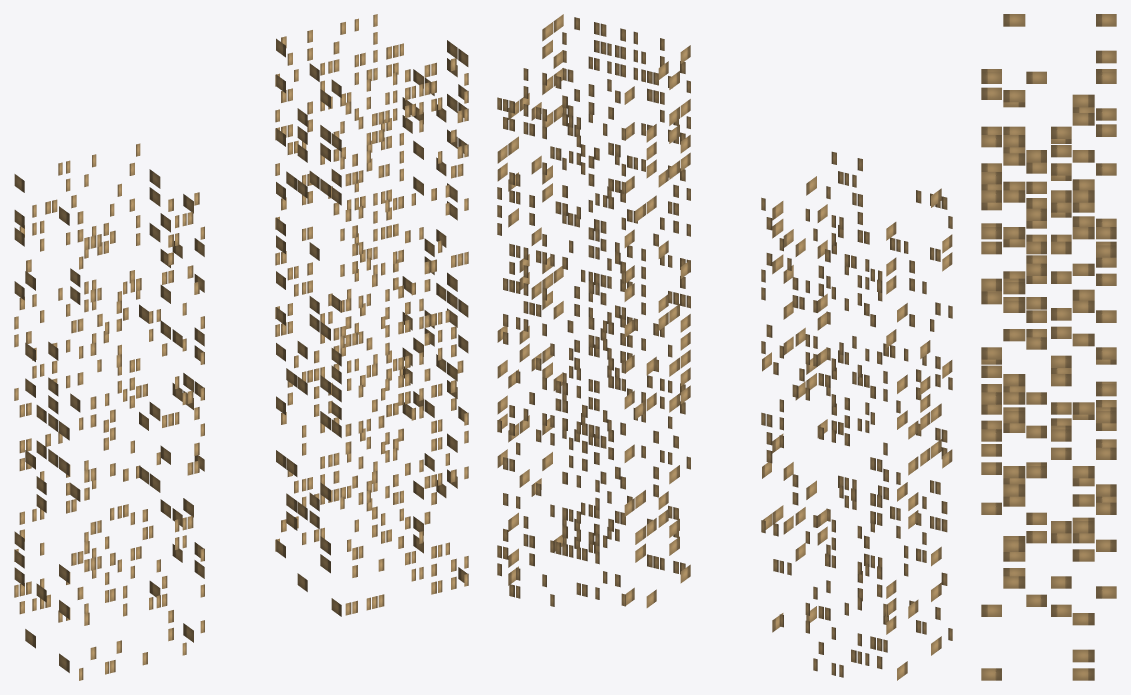
Rendered from genex_lights.obj.
The picture shows the model from 3 angles, left to right: view 1: azimuth 30°, elevation 25°; view 2: azimuth 150°, elevation 25°; view 3: azimuth 270°, elevation 25°; orthographic projection. The views are drawn at different scales.
Parts seen in each view (by area): view 1: Lit_WindowLit; view 2: Lit_WindowLit; view 3: Lit_WindowLit.
Part boxes in pixels (box(x1,y1,x2,y2)): Lit_WindowLit: box(14, 14, 468, 680); Lit_WindowLit: box(497, 14, 952, 680); Lit_WindowLit: box(981, 14, 1116, 680).
Size of the model in its own units: 79.82 by 104 by 23.32.
Materials: 1 (1 with a texture image).
